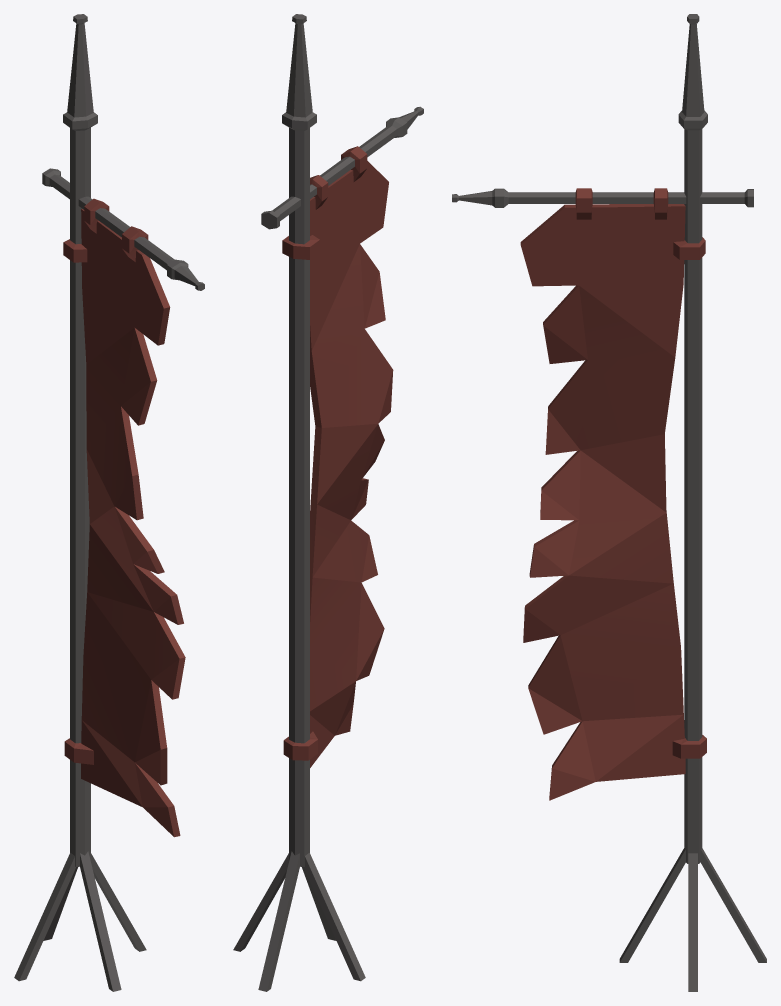
The model's file is Bandera_Roja.glb.
3 renders of one model, left to right at view 1: azimuth 30°, elevation 25°; view 2: azimuth 150°, elevation 25°; view 3: azimuth 270°, elevation 25°, orthographic.
Visible parts, largest first — view 1: SM_Prop_Flag_01_1; view 2: SM_Prop_Flag_01_1; view 3: SM_Prop_Flag_01_1.
Part boxes in pixels (bbox=[...]): SM_Prop_Flag_01_1: bbox=[14, 14, 204, 991]; SM_Prop_Flag_01_1: bbox=[233, 14, 423, 991]; SM_Prop_Flag_01_1: bbox=[452, 14, 766, 991].
Bounding box in the file's own units: 0.6875 × 4.87 × 1.47.
1 material, 1 textured.
